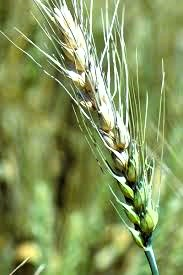Wheat scab: (49, 8, 163, 234)
